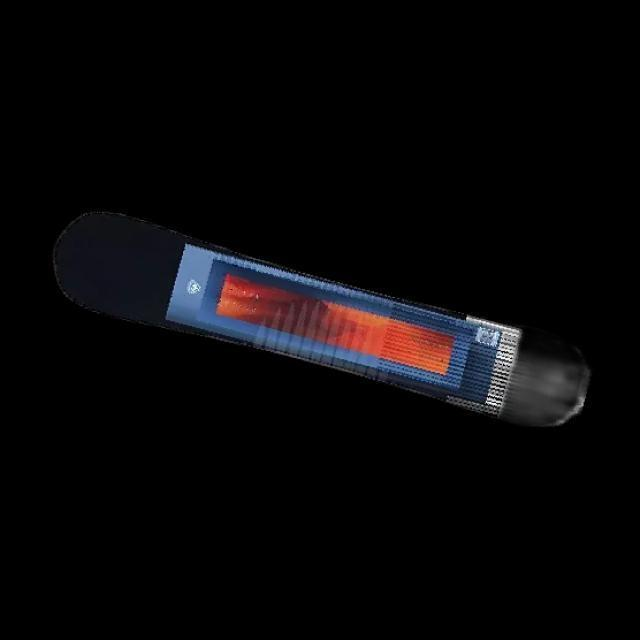Snowboard: (51, 209, 591, 429)
